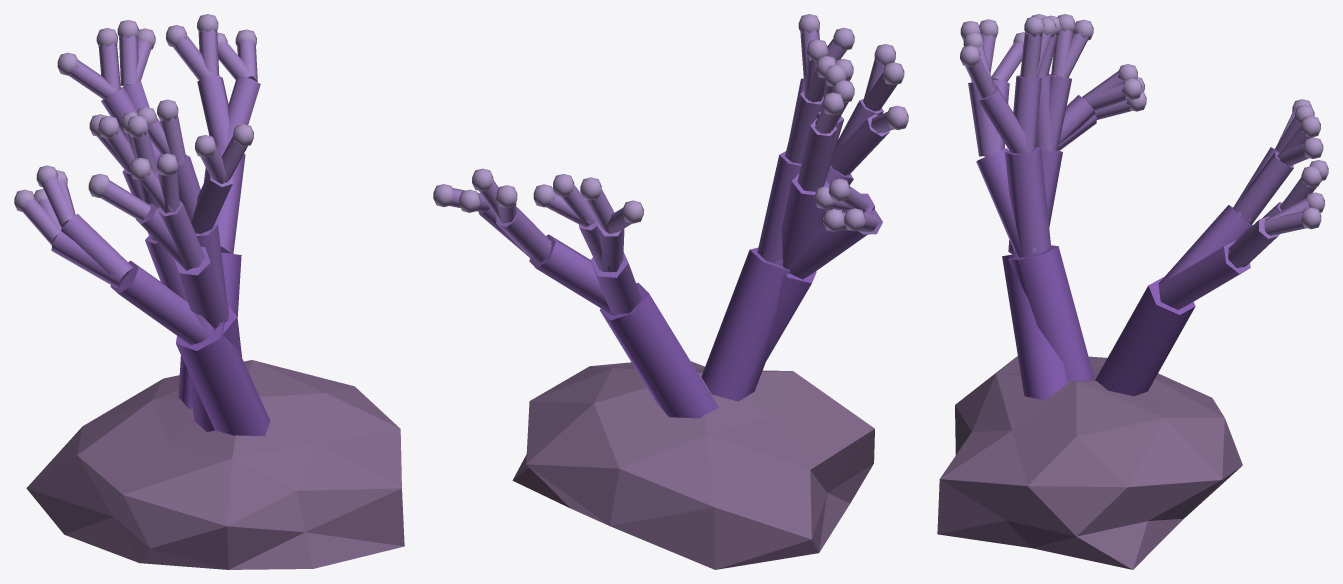
File: coral_violeta.glb
3 renders of one model, left to right at view 1: azimuth 30°, elevation 25°; view 2: azimuth 150°, elevation 25°; view 3: azimuth 270°, elevation 25°, orthographic. The views are drawn at different scales.
Visible parts, largest first — view 1: coral_violeta_Malla; view 2: coral_violeta_Malla; view 3: coral_violeta_Malla.
Part boxes in pixels (bbox=[...]): coral_violeta_Malla: bbox=[14, 14, 404, 569]; coral_violeta_Malla: bbox=[433, 14, 908, 569]; coral_violeta_Malla: bbox=[937, 14, 1328, 569].
Size of the model in its own units: 0.8866 by 1.11 by 0.9016.
